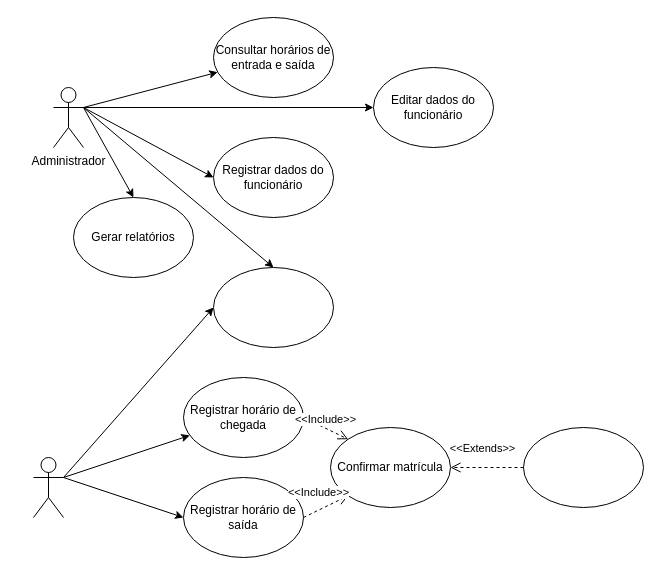
Some shapes in this 661 by 575 pixel diagram are drawn without their labels. The centre of each missing label's shape, as x and y in pixels:
Consultar dados do funcionário: (x=273, y=307)
Falha em confirmar matrícula: (x=583, y=467)
Funcionário: (x=48, y=487)
